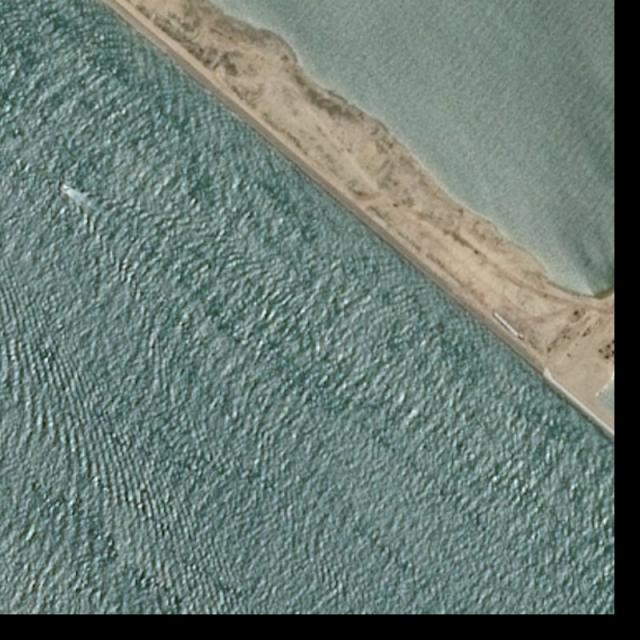ship: (61, 184, 72, 194)
